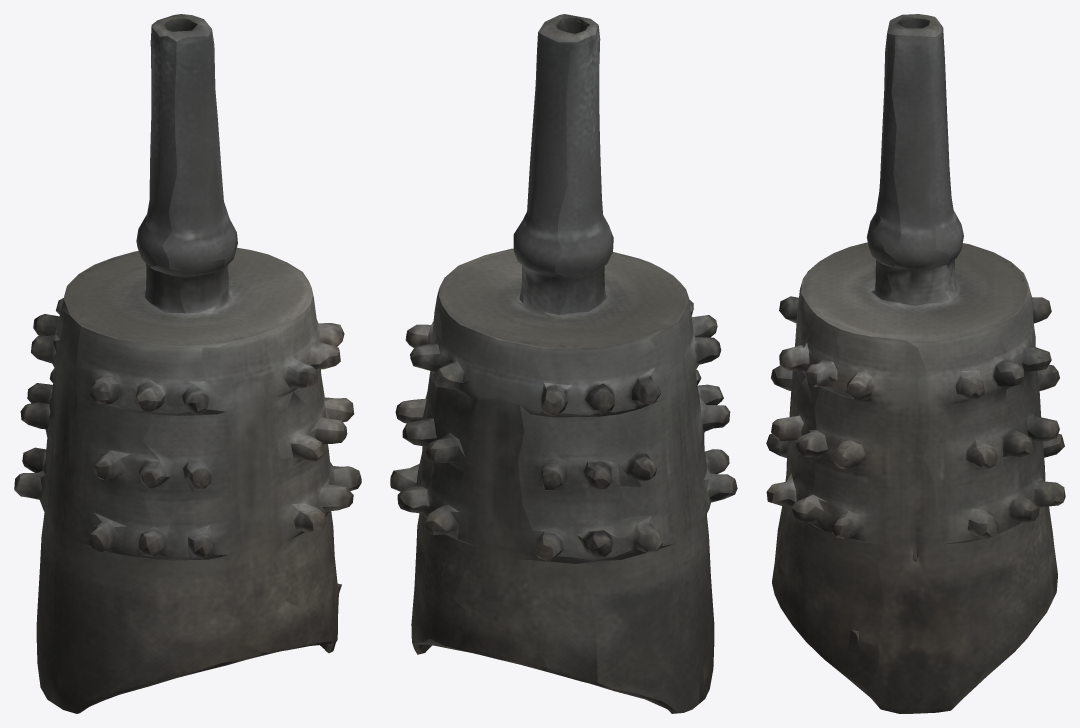
The picture shows the model from 3 angles, left to right: view 1: azimuth 30°, elevation 25°; view 2: azimuth 150°, elevation 25°; view 3: azimuth 270°, elevation 25°; orthographic projection. The views are drawn at different scales.
Visible parts, largest first — view 1: world; view 2: world; view 3: world.
Part boxes in pixels (x1,y1,x2,y2): world: (14,14,361,713); world: (390,14,737,713); world: (766,14,1065,713).
Bounding box in the file's own units: 0.1974 × 0.45 × 0.1948.
Materials: 1 (1 with a texture image).
